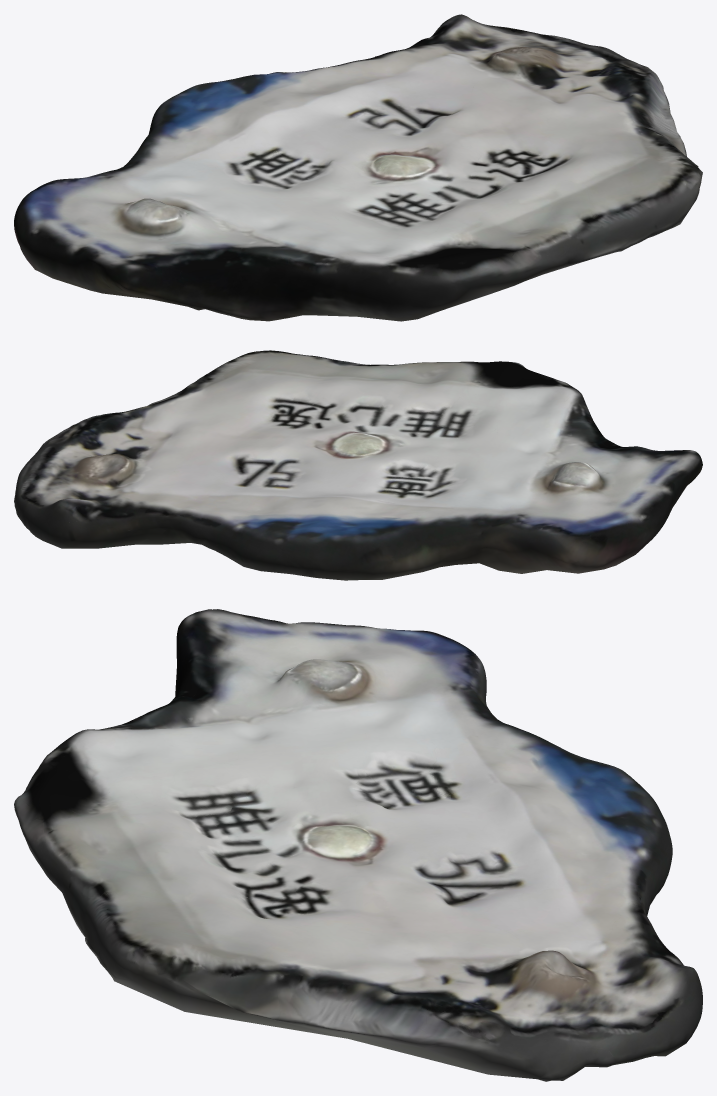
3 renders of one model, top to bottom at view 1: azimuth 30°, elevation 25°; view 2: azimuth 150°, elevation 25°; view 3: azimuth 270°, elevation 25°, orthographic. The views are drawn at different scales.
Size of the model in its own units: 0.5736 by 0.0784 by 0.4336.
Materials: 1 (1 with a texture image).
